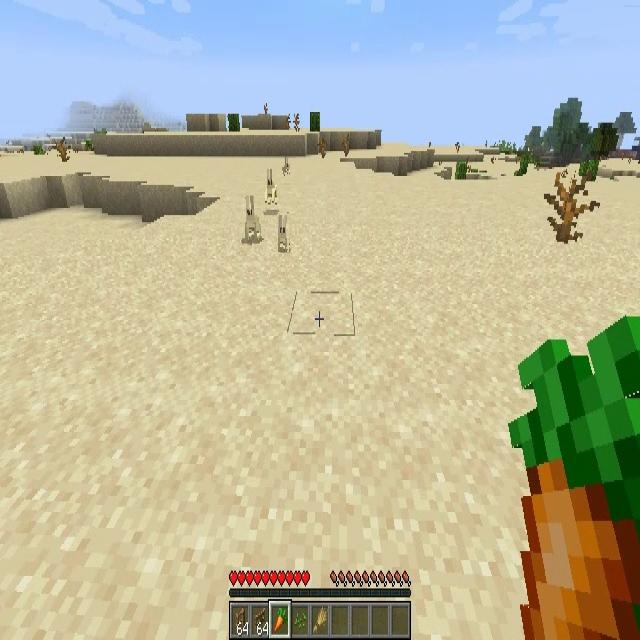rabbit: (243, 196, 259, 241), (265, 170, 278, 208), (278, 212, 289, 252), (282, 158, 291, 177)
